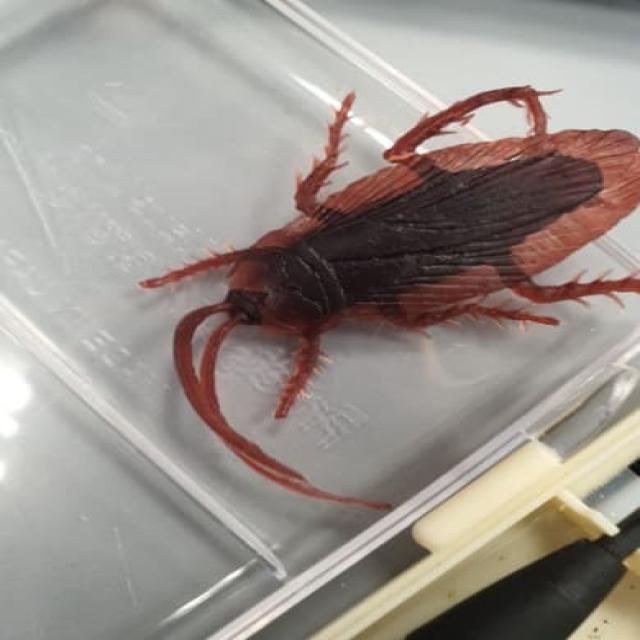Cockroach: (146, 75, 640, 452)
